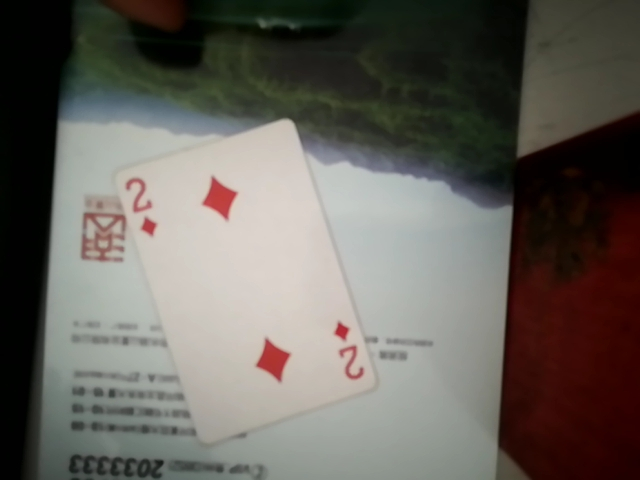fk 2: (108, 112, 378, 447)
